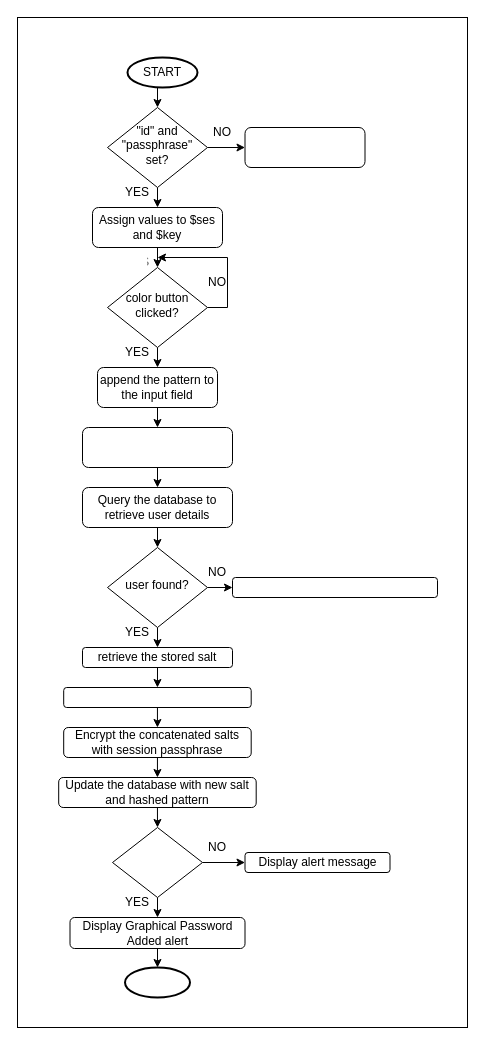
The diagram is 485 pixels wide and 1045 high, and some of its shapes have lost their labels. Each missing label, with the centre of its shape:
Assign null values to $ses and $key: point (304, 147)
END: point (157, 982)
End of form submission handling: point (335, 587)
Generate a new salt for pattern: point (157, 697)
retrieve and sanitize the entered pattern from form: point (157, 447)
successfull?: point (157, 862)
